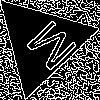M: (16, 18, 79, 80)
